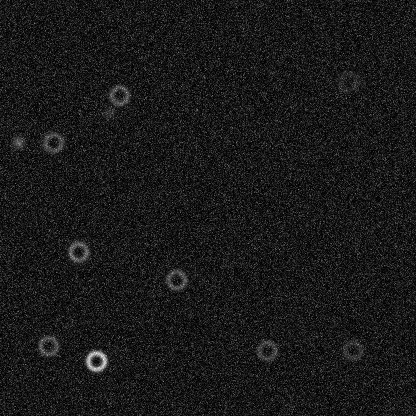Ring: (41, 130, 65, 154), (107, 83, 131, 107), (335, 69, 359, 93), (255, 338, 279, 362), (66, 239, 90, 263), (84, 348, 108, 372), (164, 267, 188, 291), (340, 338, 364, 362), (36, 333, 60, 357)
Spot: (10, 134, 26, 150), (101, 104, 117, 120)
